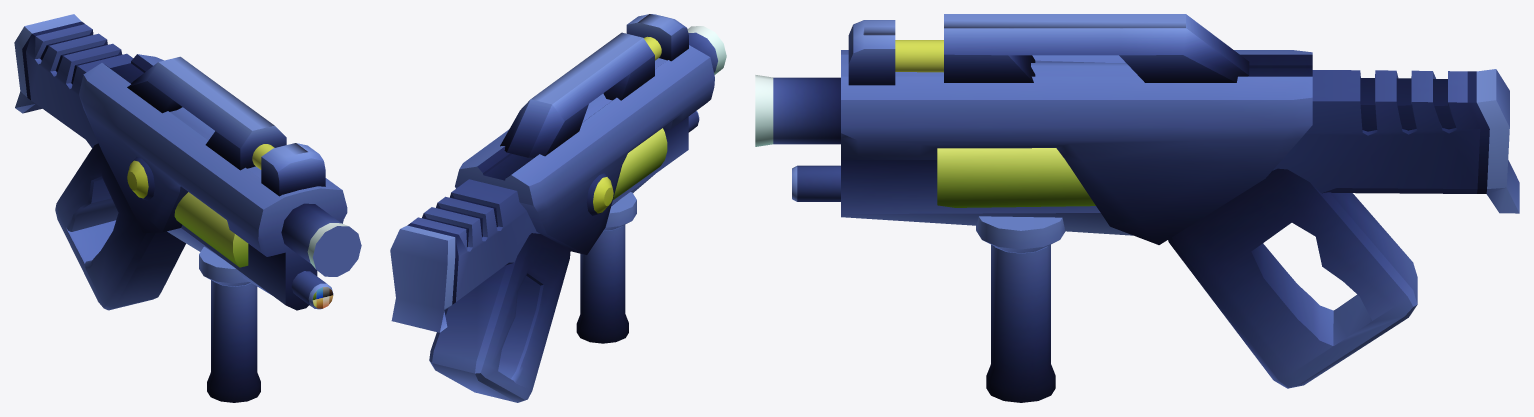
Rendered from sci_fi_gun.fbx.
3 views of the same model, side by side, from view 1: azimuth 30°, elevation 25°; view 2: azimuth 150°, elevation 25°; view 3: azimuth 270°, elevation 25° (orthographic). The views are drawn at different scales.
Visible parts, largest first — view 1: Cylinder.004; view 2: Cylinder.004; view 3: Cylinder.004.
Part boxes in pixels (<box>): Cylinder.004: <box>14,14,361,402</box>; Cylinder.004: <box>390,14,726,402</box>; Cylinder.004: <box>755,14,1519,402</box>.
Bounding box in the file's own units: 29.73 × 83.35 × 157.
